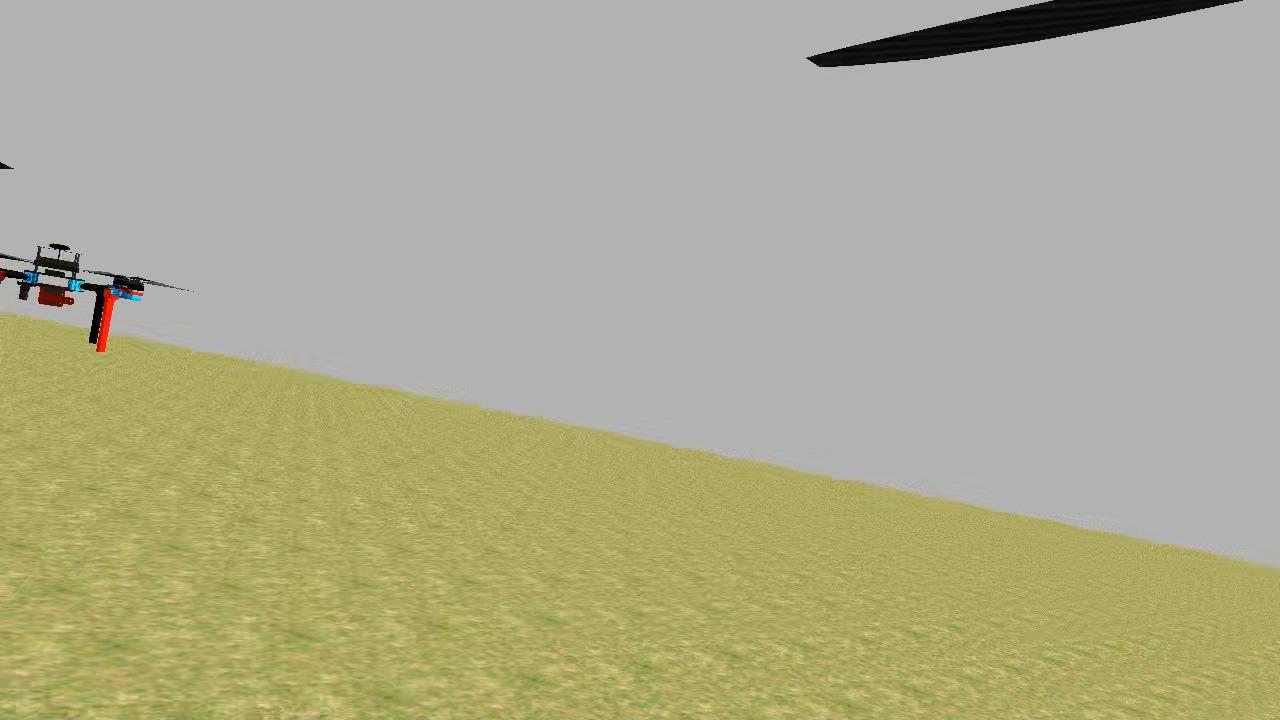UAV: (0, 231, 163, 364)
